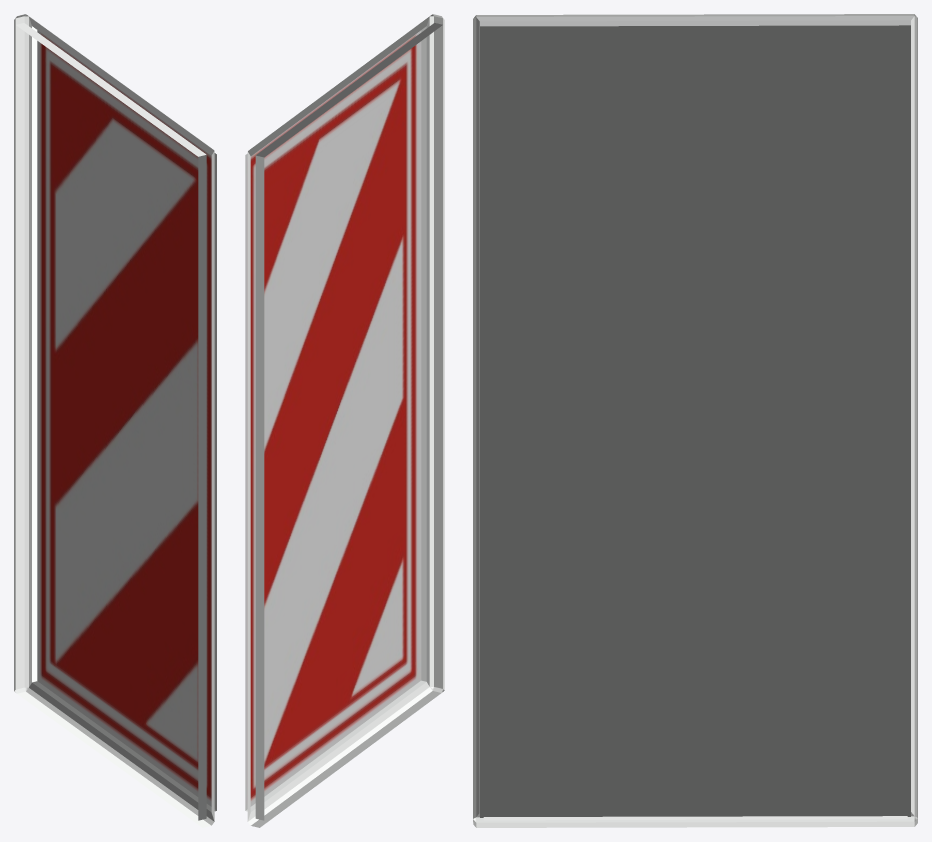
3 renders of one model, left to right at view 1: azimuth 30°, elevation 25°; view 2: azimuth 150°, elevation 25°; view 3: azimuth 270°, elevation 25°, orthographic. The views are drawn at different scales.
Visible parts, largest first — view 1: model11; view 2: model11; view 3: model11.
Part boxes in pixels (left/top/right/bottom): model11: left=14, top=14, right=216, bottom=827; model11: left=245, top=14, right=444, bottom=827; model11: left=473, top=14, right=917, bottom=827.
Bounding box in the file's own units: 0.0843 × 2.46 × 1.23.
Materials: 1 (1 with a texture image).
